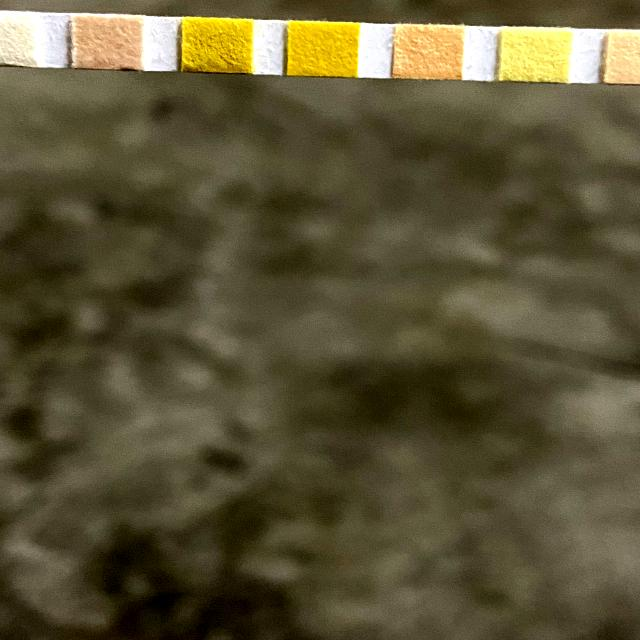Bilirubin: (0, 15, 35, 61)
Blood: (290, 24, 356, 74)
Ketone: (73, 18, 141, 66)
Protein: (503, 31, 567, 80)
SpGravity: (184, 21, 252, 71)
Urobilinogen: (609, 33, 640, 81)
pH: (398, 28, 460, 78)
